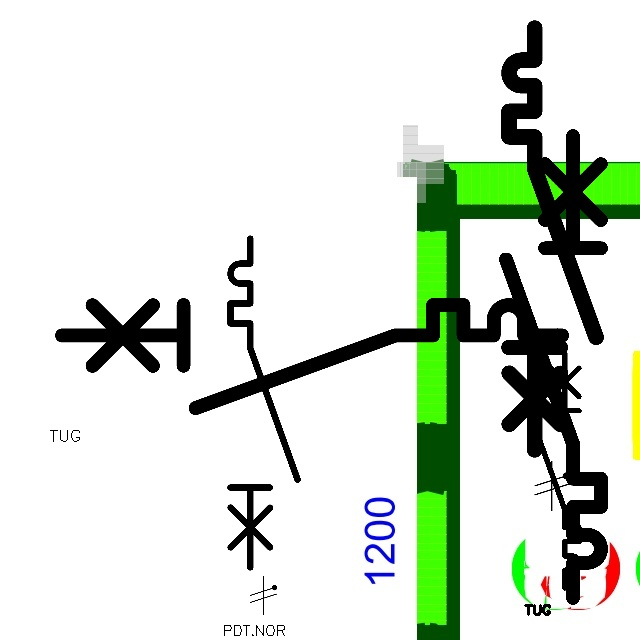interruptor_termomagnetico: (49, 292, 575, 421), (494, 124, 613, 610), (498, 17, 606, 461), (222, 230, 306, 576), (525, 347, 585, 593)
